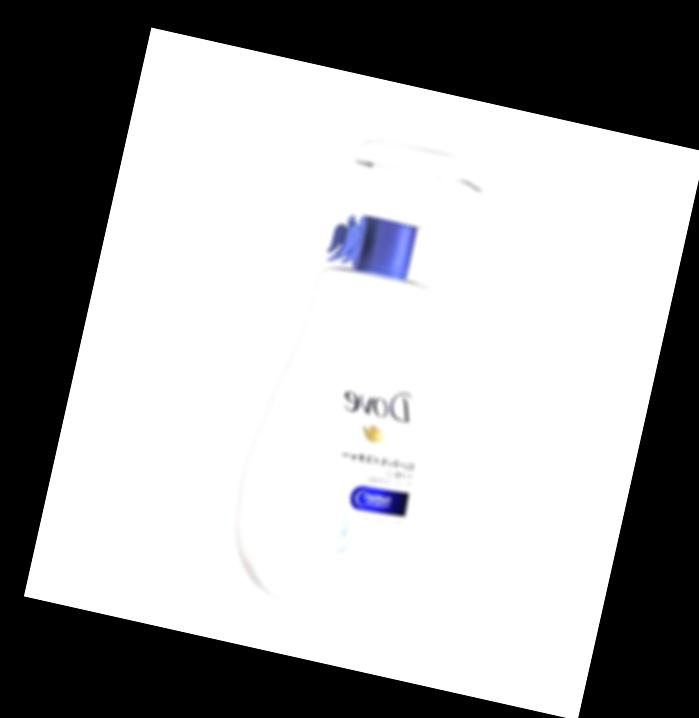cosmetic: (211, 121, 505, 634)
